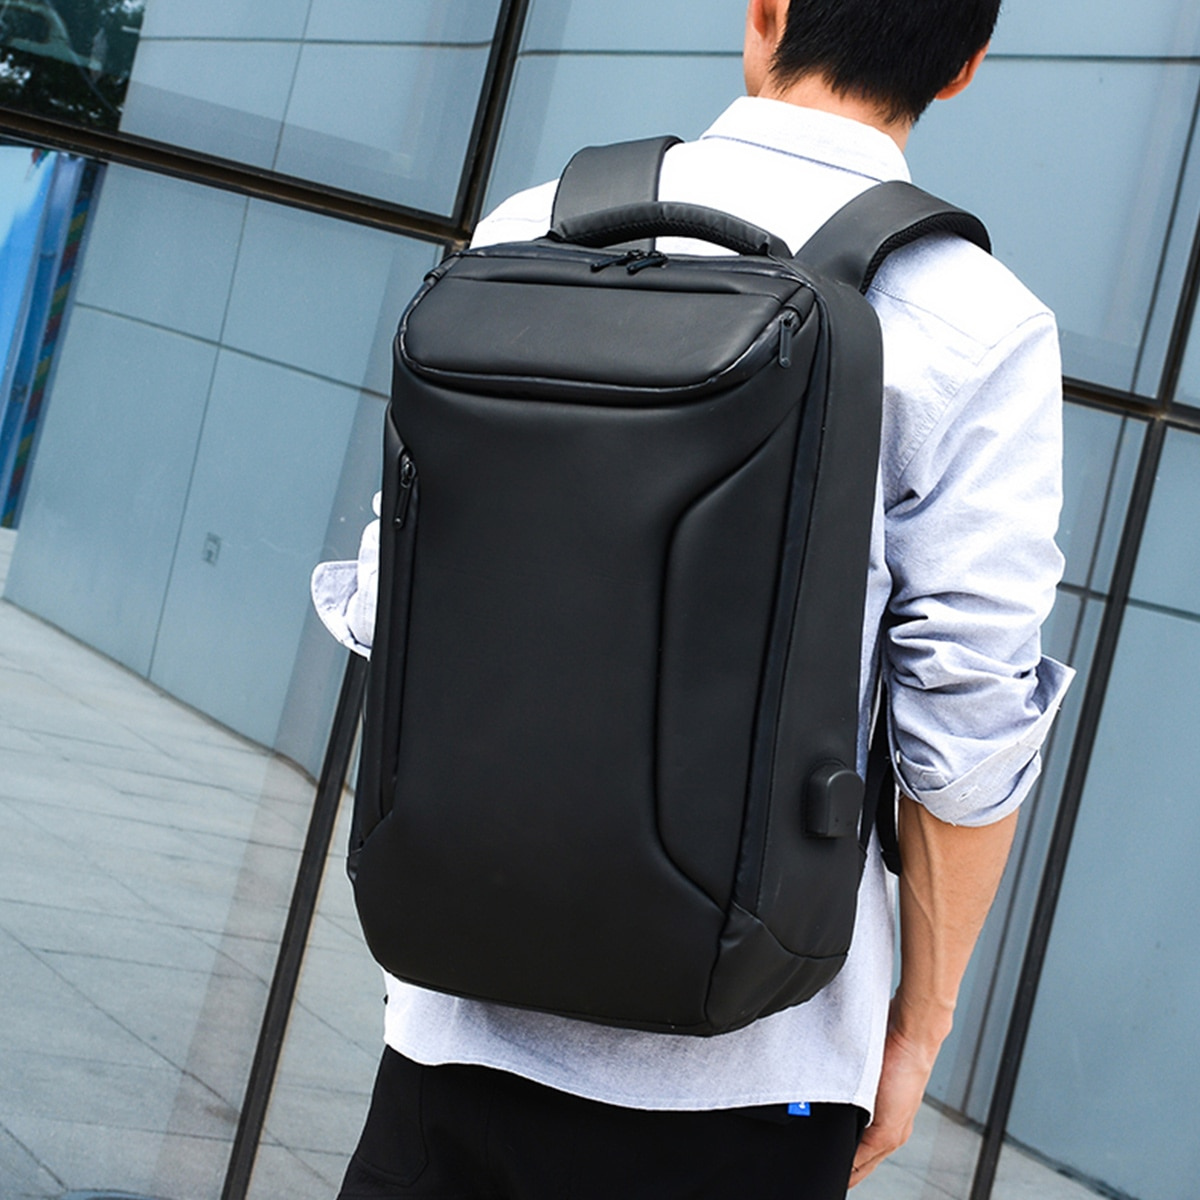Men's Backpacks: (347, 134, 989, 1034)
Tops|Shirts: (496, 114, 1084, 1117)
